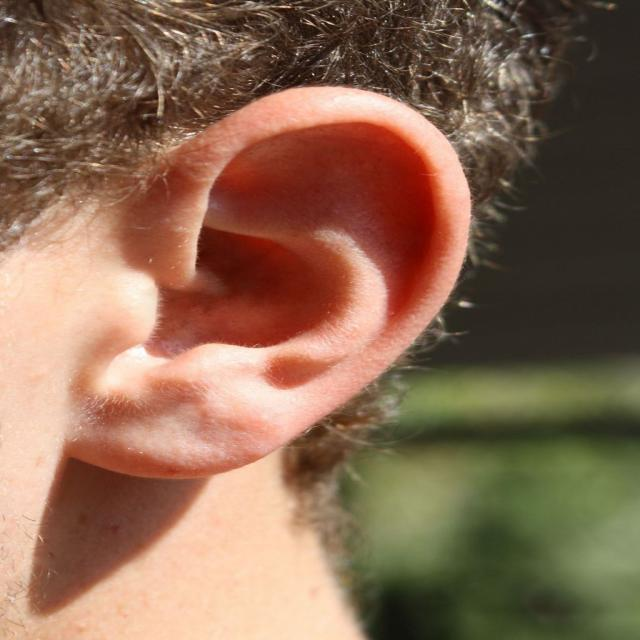earlobe: (64, 86, 472, 479)
